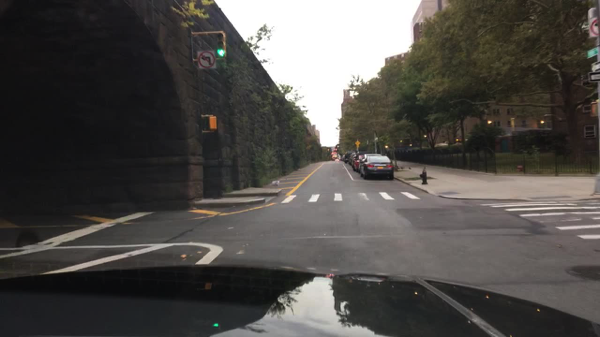car: (358, 154, 394, 181), (357, 153, 383, 177), (353, 154, 366, 172), (351, 151, 364, 168), (343, 150, 355, 163), (348, 152, 358, 166), (335, 155, 342, 162), (331, 154, 338, 160), (340, 154, 346, 160)
traffic light: (216, 31, 226, 58), (206, 115, 218, 132), (588, 101, 597, 119)
traffic sign: (196, 51, 216, 70), (586, 18, 599, 39), (584, 47, 596, 60), (587, 73, 598, 84), (589, 61, 598, 72), (354, 139, 360, 146)
